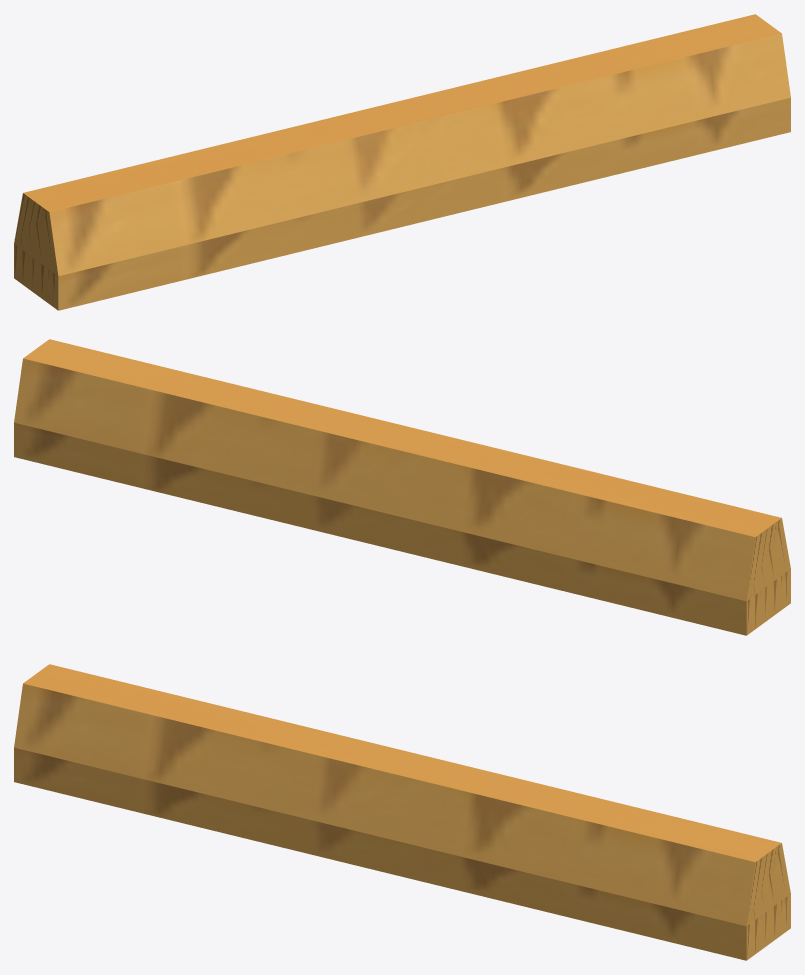
The model's file is rc_wa_roof_eave_4m.glb.
3 renders of one model, top to bottom at view 1: azimuth 30°, elevation 25°; view 2: azimuth 150°, elevation 25°; view 3: azimuth 330°, elevation 25°, orthographic.
Visible parts, largest first — view 1: SM_RC_WA_ThatchEave_4m; view 2: SM_RC_WA_ThatchEave_4m; view 3: SM_RC_WA_ThatchEave_4m.
Part boxes in pixels (x1,y1,x2,y2): SM_RC_WA_ThatchEave_4m: (14,14,790,310); SM_RC_WA_ThatchEave_4m: (14,339,790,635); SM_RC_WA_ThatchEave_4m: (14,664,790,960).
Size of the model in its own units: 4 by 0.48 by 0.42.
1 material, 1 textured.
